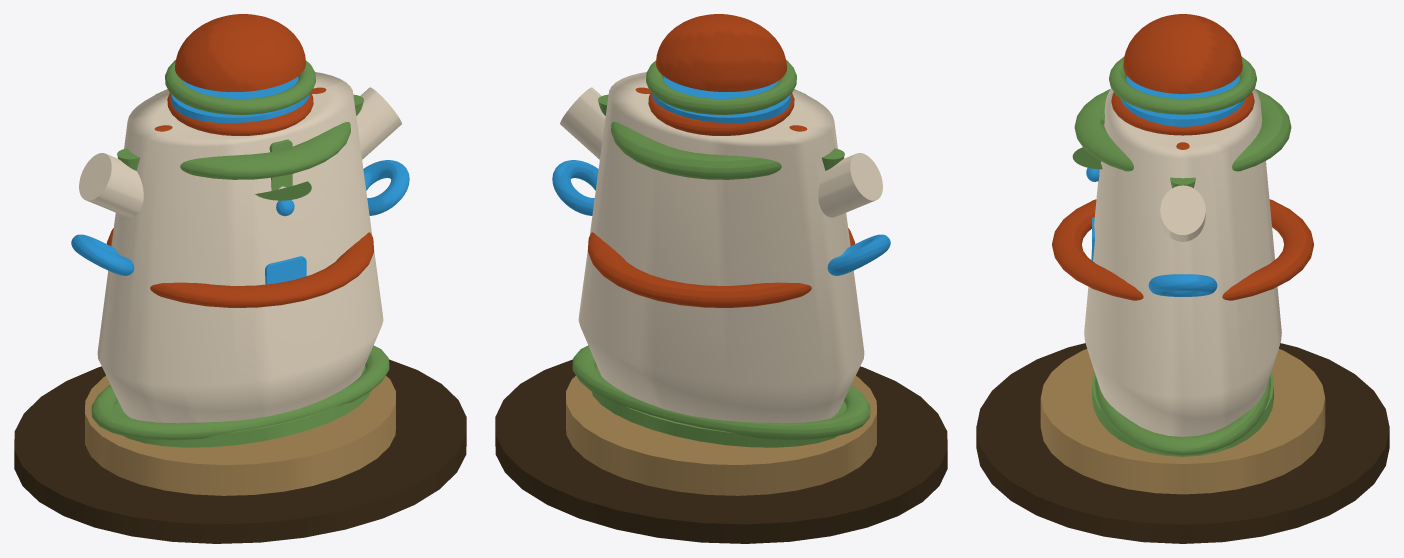
File: 0598_考古图鉴_青铜水禽.glb
3 renders of one model, left to right at view 1: azimuth 30°, elevation 25°; view 2: azimuth 150°, elevation 25°; view 3: azimuth 270°, elevation 25°, orthographic.
Visible parts, largest first — view 1: card_0598; view 2: card_0598; view 3: card_0598.
Part boxes in pixels (box(x1,y1,x2,y2)): card_0598: box(14, 14, 466, 543); card_0598: box(495, 14, 947, 543); card_0598: box(976, 14, 1389, 543).
Size of the model in its own units: 0.9767 by 1 by 0.8818.
